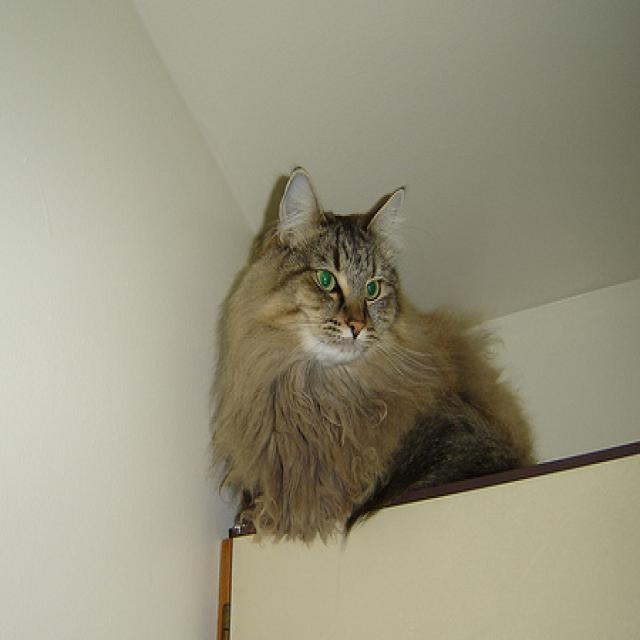Maine Coon: (200, 159, 544, 557)
